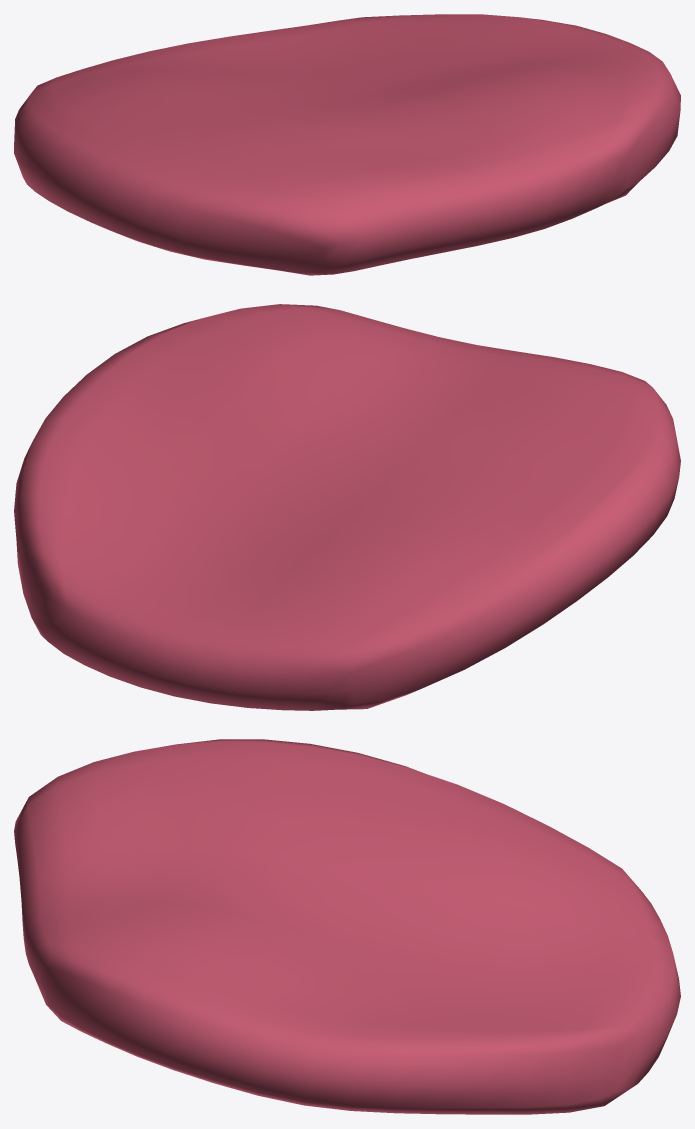
The picture shows the model from 3 angles, top to bottom: view 1: azimuth 30°, elevation 25°; view 2: azimuth 150°, elevation 25°; view 3: azimuth 270°, elevation 25°; orthographic projection. The views are drawn at different scales.
Visible parts, largest first — view 1: 右侧髌下深囊; view 2: 右侧髌下深囊; view 3: 右侧髌下深囊.
Boxes of the visible parts, <box> form: 右侧髌下深囊: <box>14,14,680,275</box>; 右侧髌下深囊: <box>14,304,680,710</box>; 右侧髌下深囊: <box>14,739,680,1114</box>.
Bounding box in the file's own units: 0.0255 × 0.00668 × 0.0243.
